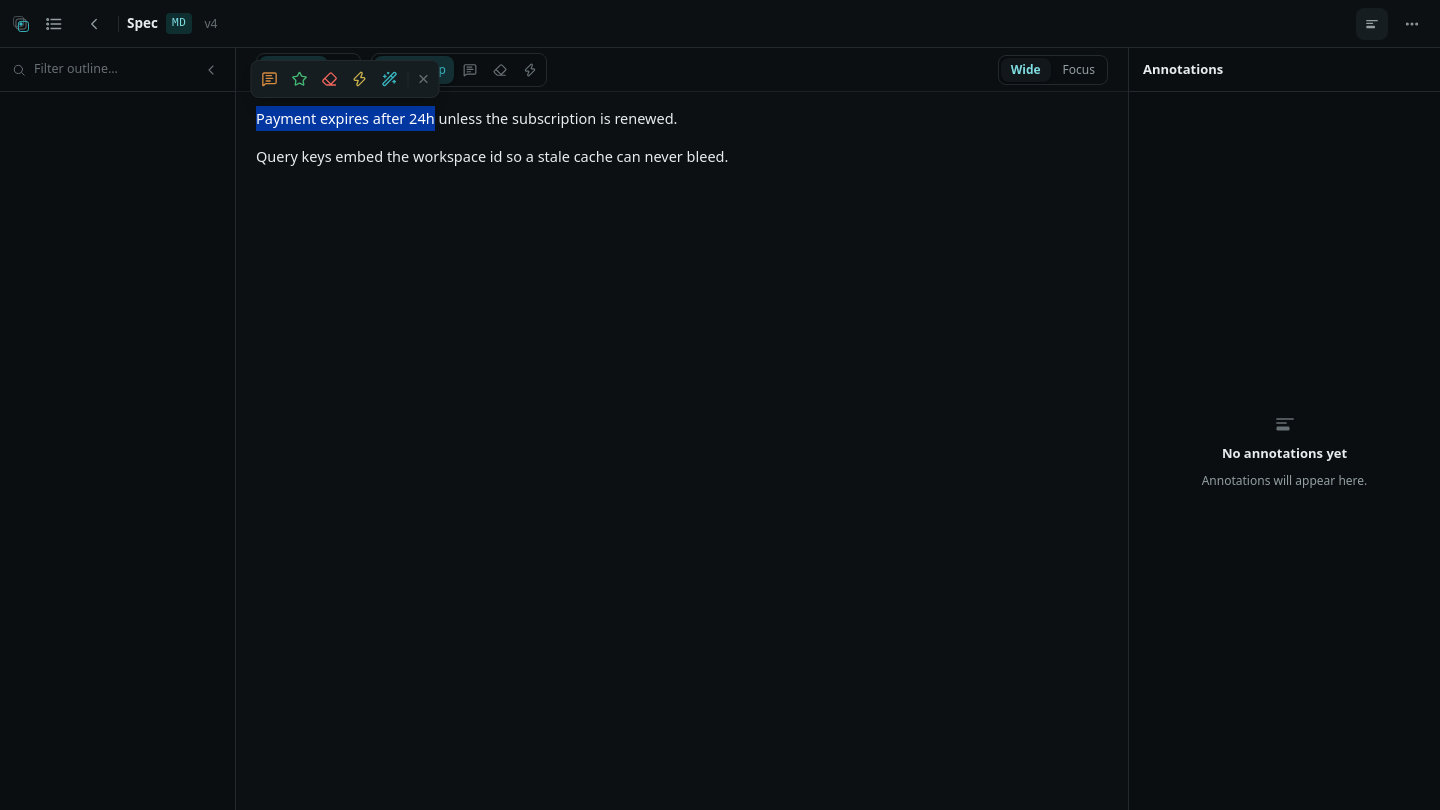
Test: Guest commenting S-007 › C-007: a logged-in (non-guest) session shows NO guest name field and Send only needs a body
Expected: the element with test id "markdown-view" is shown, x1=256 y1=108 x2=728 y2=166
Expected: the element with test id "annotations-rail" is shown, x1=1129 y1=48 x2=1439 y2=489
Click the button with test id "popover-comment": [270, 79] box x1=256 y1=65 x2=284 y2=93
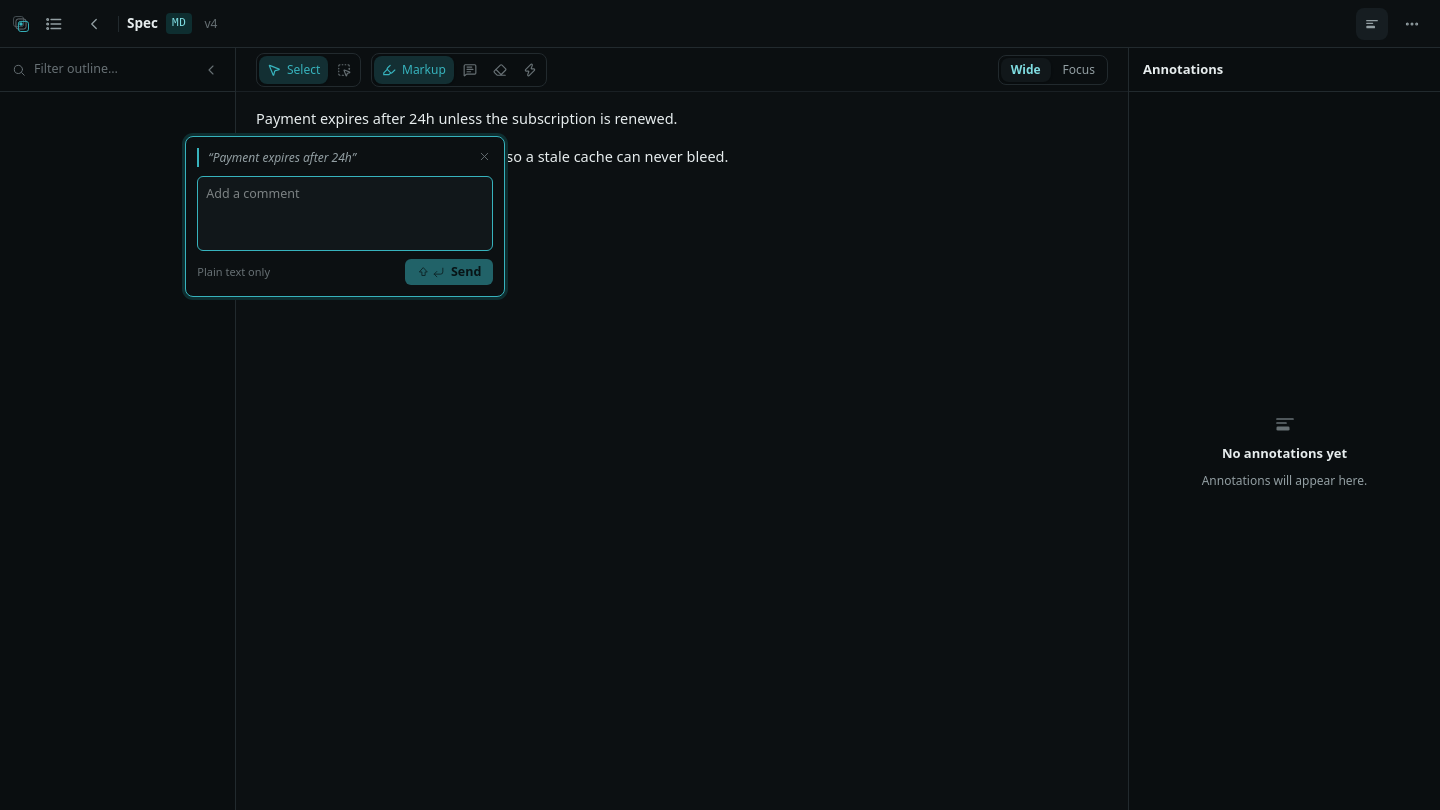
Send enables on a body alone (no name gate for a member).
In the text box with test id "composer-input": [345, 214] box x1=197 y1=176 x2=493 y2=251, type "member comment"
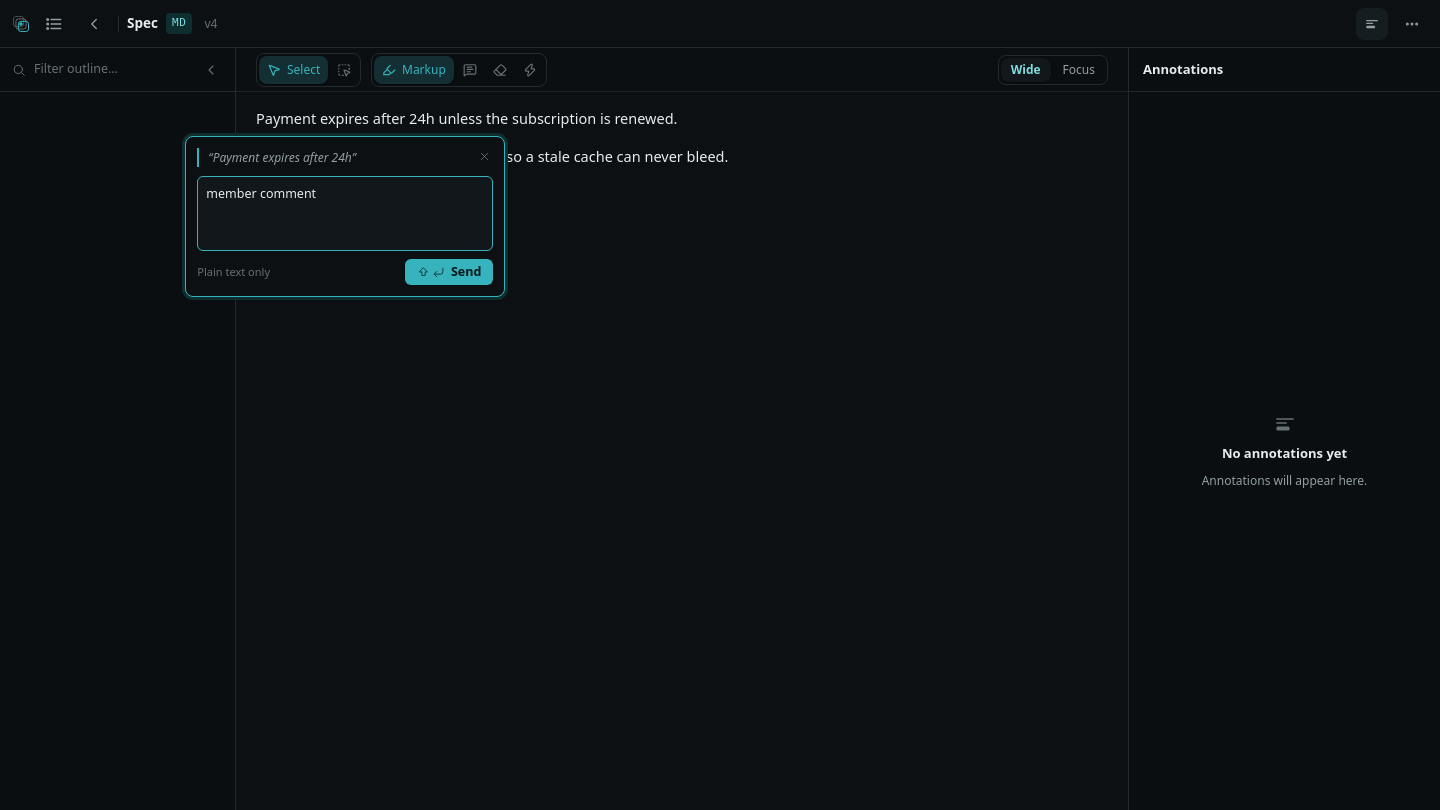
Expected: the button with test id "composer-send" is enabled, x1=405 y1=259 x2=493 y2=285
